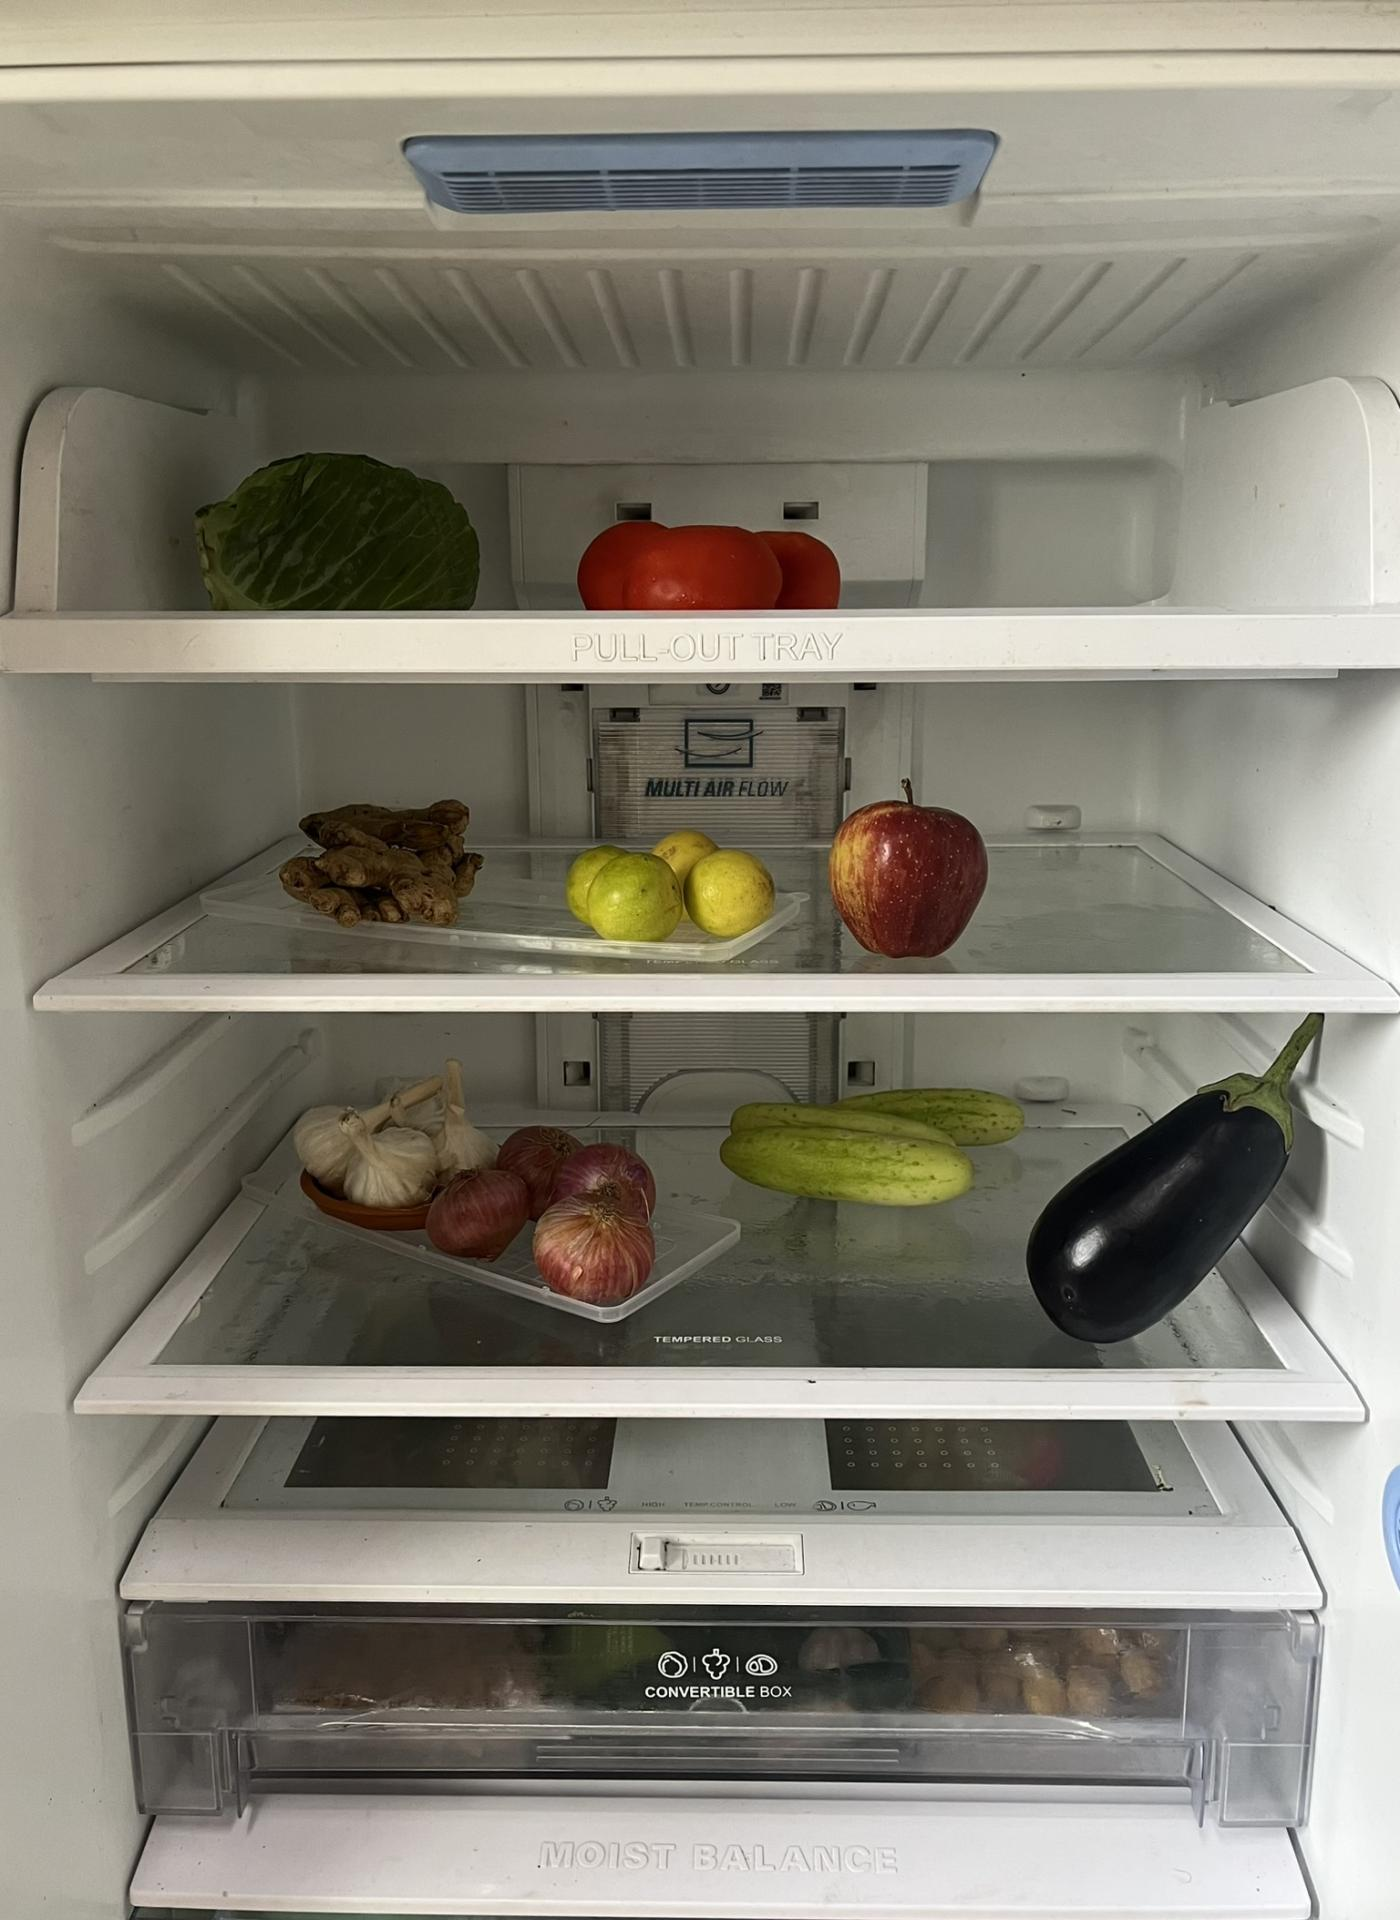apple: (838, 790, 993, 956)
cabbage: (170, 441, 492, 610)
cucumber: (723, 1085, 1030, 1209)
garlic: (301, 1075, 495, 1203)
ginger: (292, 798, 483, 918)
lemon: (565, 832, 775, 935)
onion: (432, 1122, 644, 1300)
tomato: (583, 519, 841, 610)
